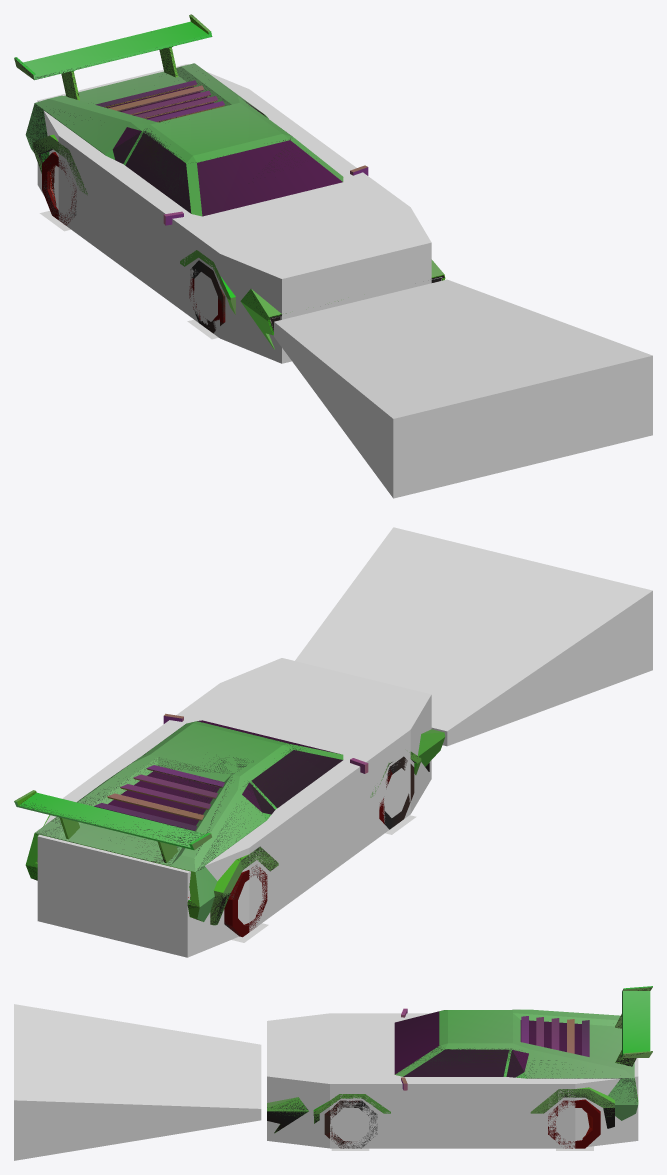
File: Vektor.fbx
3 views of the same model, one above another, from view 1: azimuth 30°, elevation 25°; view 2: azimuth 150°, elevation 25°; view 3: azimuth 270°, elevation 25° (orthographic). The views are drawn at different scales.
Parts seen in each view (by area): view 1: vektor_gr, vektor_cldr, vektor, vektor_dead, vektor_lckd; view 2: vektor_cldr, vektor_gr, vektor, vektor_dead, vektor_lckd, vektor_frontwheels; view 3: vektor_cldr, vektor_gr, vektor, vektor_dead, vektor_lckd, vektor_frontwheels.
Part boxes in pixels (bbox=[...]): vektor_gr: bbox=[274, 279, 652, 498]; vektor_cldr: bbox=[37, 64, 431, 363]; vektor: bbox=[14, 14, 445, 349]; vektor_dead: bbox=[15, 14, 444, 332]; vektor_lckd: bbox=[42, 152, 225, 324]; vektor_cldr: bbox=[37, 658, 431, 957]; vektor_gr: bbox=[295, 527, 652, 746]; vektor: bbox=[14, 713, 445, 925]; vektor_dead: bbox=[18, 729, 429, 924]; vektor_lckd: bbox=[224, 768, 392, 937]; vektor_frontwheels: bbox=[384, 756, 414, 829]; vektor_cldr: bbox=[267, 1013, 638, 1148]; vektor_gr: bbox=[14, 1004, 261, 1160]; vektor: bbox=[267, 986, 652, 1133]; vektor_dead: bbox=[267, 987, 652, 1132]; vektor_lckd: bbox=[325, 1099, 600, 1148]; vektor_frontwheels: bbox=[324, 1100, 377, 1148].
Bounding box in the file's own units: 5.07 × 2.31 × 14.22.
